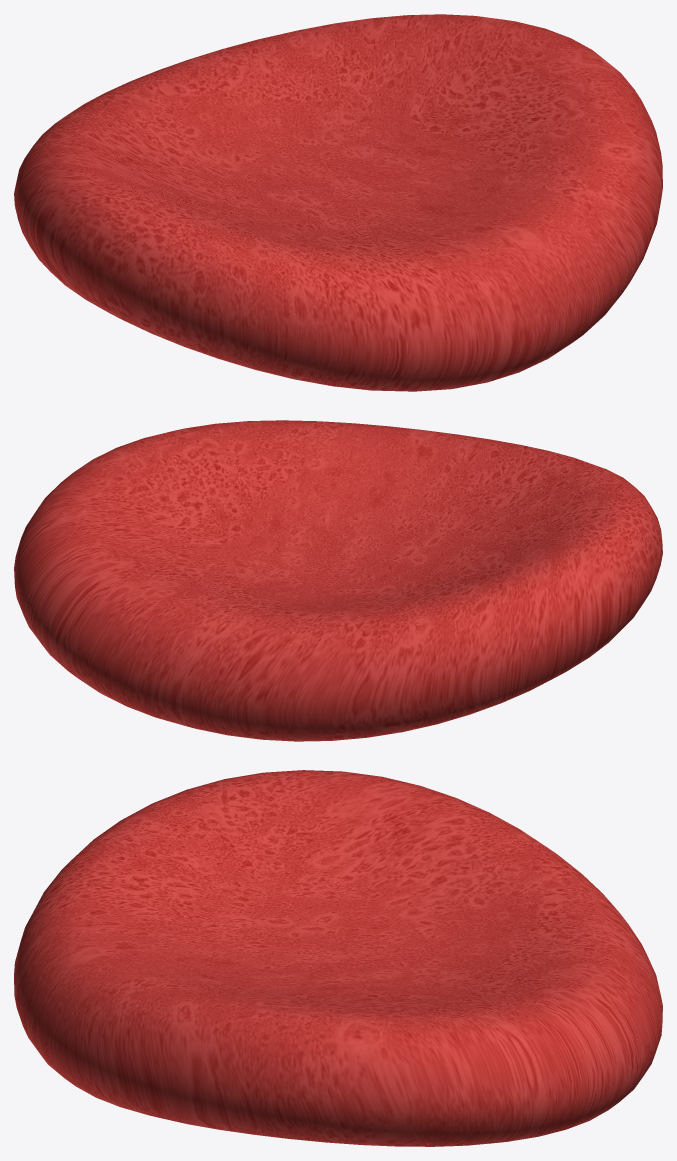
The model's file is sketchfab-red-blood-cell.glb.
The picture shows the model from 3 angles, top to bottom: view 1: azimuth 30°, elevation 25°; view 2: azimuth 150°, elevation 25°; view 3: azimuth 270°, elevation 25°; orthographic projection. The views are drawn at different scales.
Visible parts, largest first — view 1: end; view 2: end; view 3: end.
Part boxes in pixels (box(x1,y1,x2,y2)): end: box(14, 14, 662, 391); end: box(14, 420, 662, 741); end: box(14, 770, 662, 1146).
Size of the model in its own units: 0.9364 by 0.2416 by 0.9005.
1 material, 1 textured.
